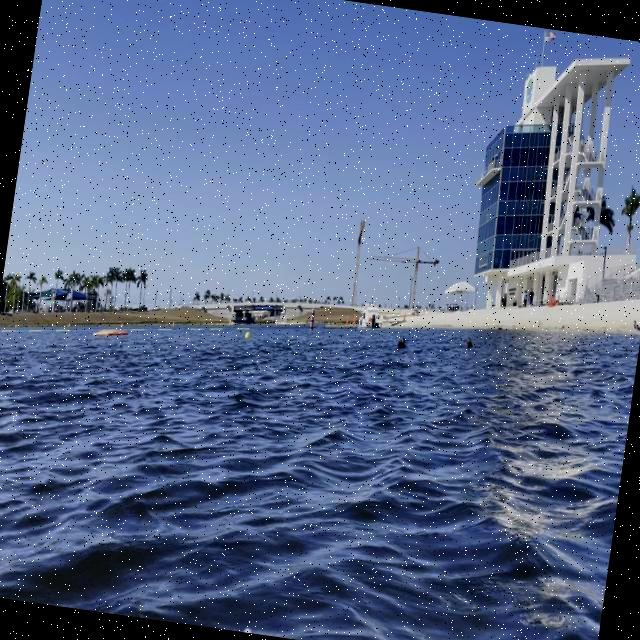buoy: (243, 328, 252, 342)
